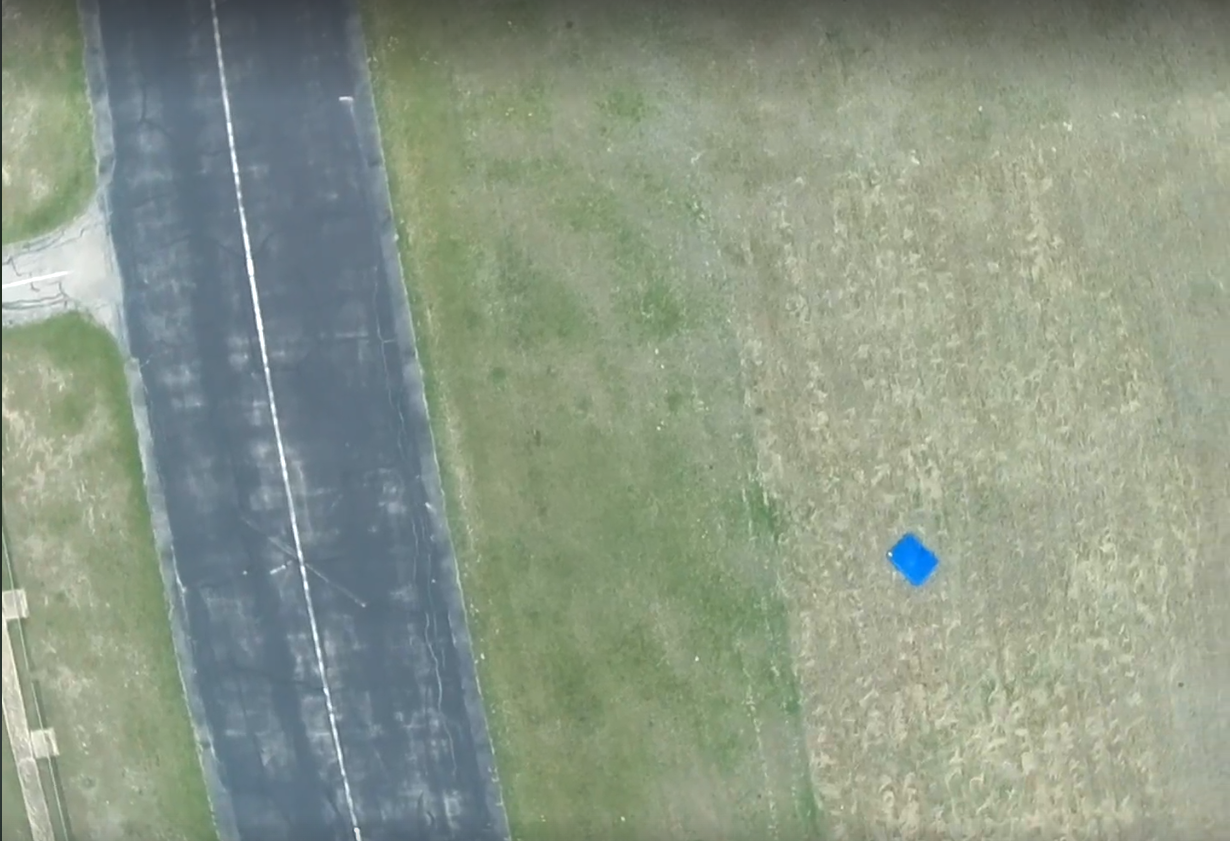TOI: (886, 530, 940, 588)
